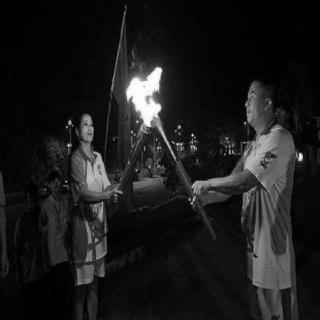Fire: (121, 59, 181, 139)
